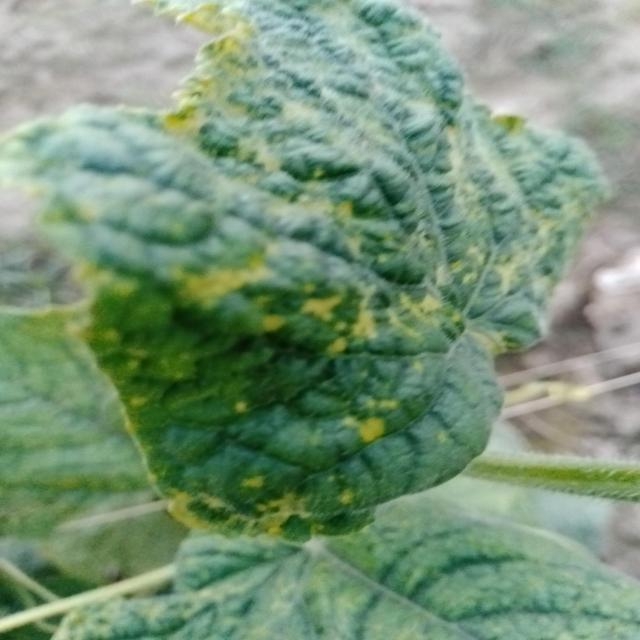cucumber_downy: (59, 4, 594, 555)
